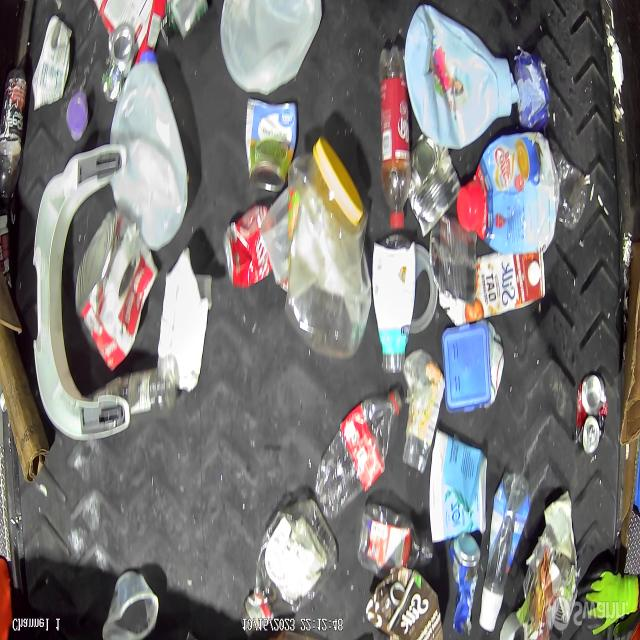can: (75, 210, 158, 371), (409, 135, 461, 240), (246, 96, 299, 195), (429, 214, 478, 308), (224, 205, 274, 292), (448, 533, 481, 637), (576, 371, 607, 452), (103, 24, 135, 102)
milk_jug: (111, 46, 187, 251), (223, 0, 324, 95)
non_white_jug: (405, 8, 517, 148)
plastic_bottle: (284, 140, 371, 360), (242, 500, 338, 637), (460, 132, 560, 254), (314, 389, 405, 520), (378, 46, 411, 231), (358, 501, 436, 576), (483, 474, 531, 595), (102, 367, 178, 420), (0, 68, 28, 210)
